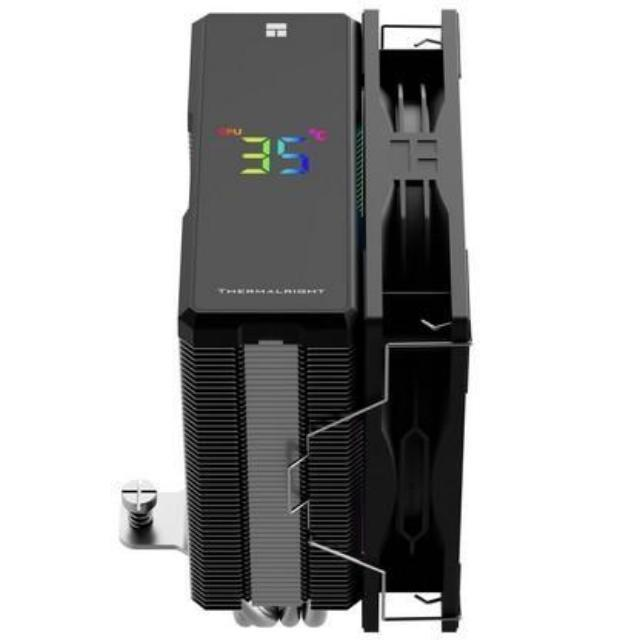CPU_Fan: (126, 12, 488, 640)
